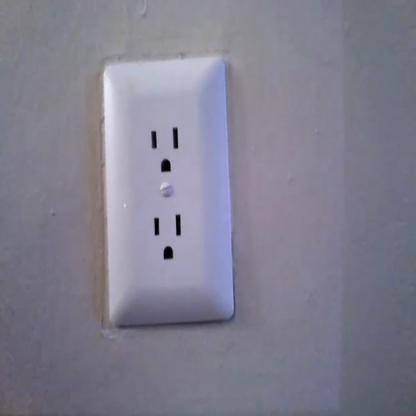OUTLET: (101, 60, 235, 328)
